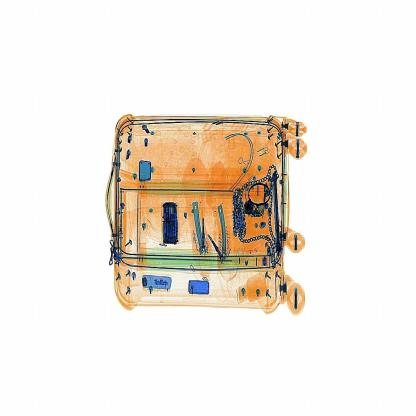scissors: (158, 199, 190, 260)
